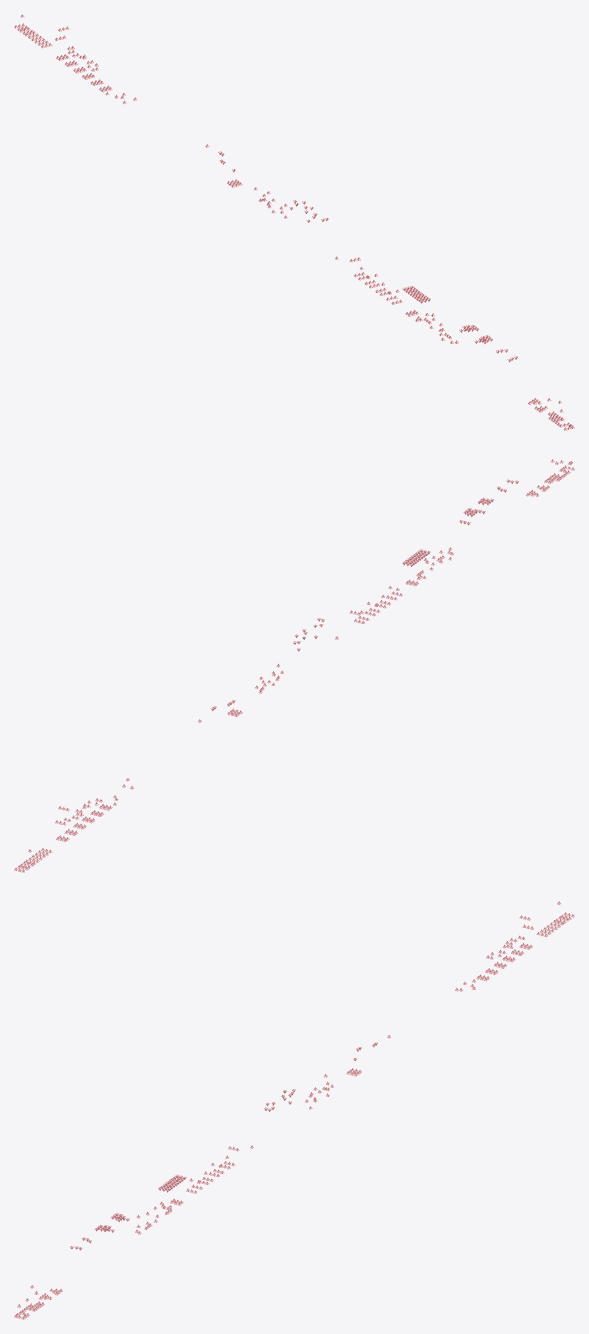
File: Spike Lvl11.fbx
The picture shows the model from 3 angles, top to bottom: view 1: azimuth 30°, elevation 25°; view 2: azimuth 150°, elevation 25°; view 3: azimuth 330°, elevation 25°; orthographic projection.
Bounding box in the file's own units: 540 × 1640 × 51440.
